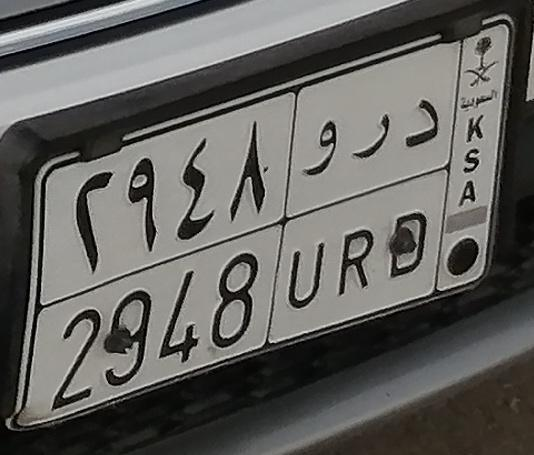2: (48, 163, 111, 413)
4: (156, 136, 217, 365)
8: (210, 119, 272, 351)
9: (106, 156, 161, 388)
D: (390, 97, 443, 287)
R: (337, 108, 390, 296)
U: (285, 116, 340, 314)
